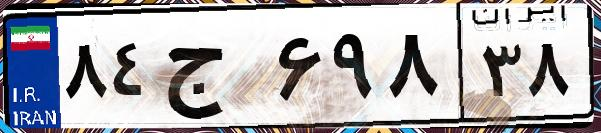3: (475, 38, 525, 113)
4: (110, 28, 158, 98)
6: (270, 28, 330, 110)
8: (385, 28, 445, 110), (57, 26, 110, 100), (525, 38, 570, 115)
9: (330, 28, 385, 110)
ج: (158, 20, 270, 120)
